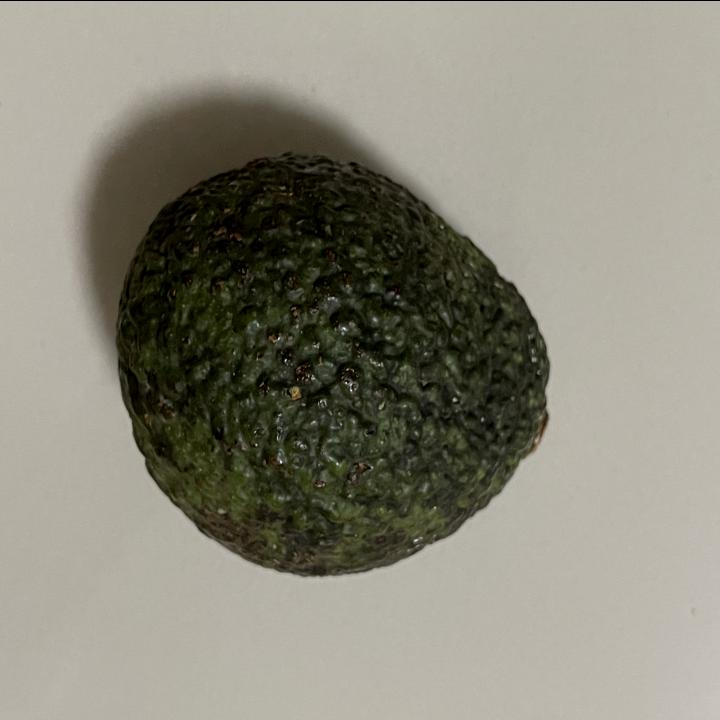Level1: (102, 135, 570, 606)
